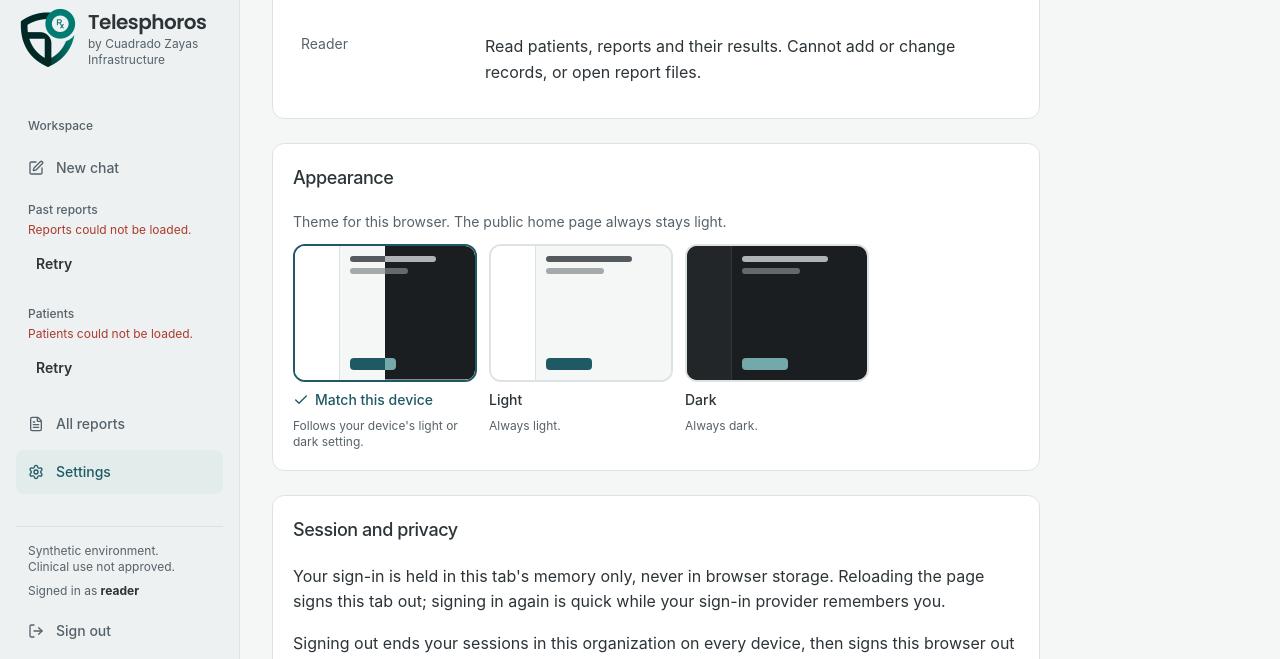
Scenario: Appearance › the picture cards are still radios: arrow keys move the choice, and only the chosen card is marked
The image size is (1280, 659).
(page scrolled)
Click the radio button labelled "Light Always light." at (581, 347), box [489,244,673,450]
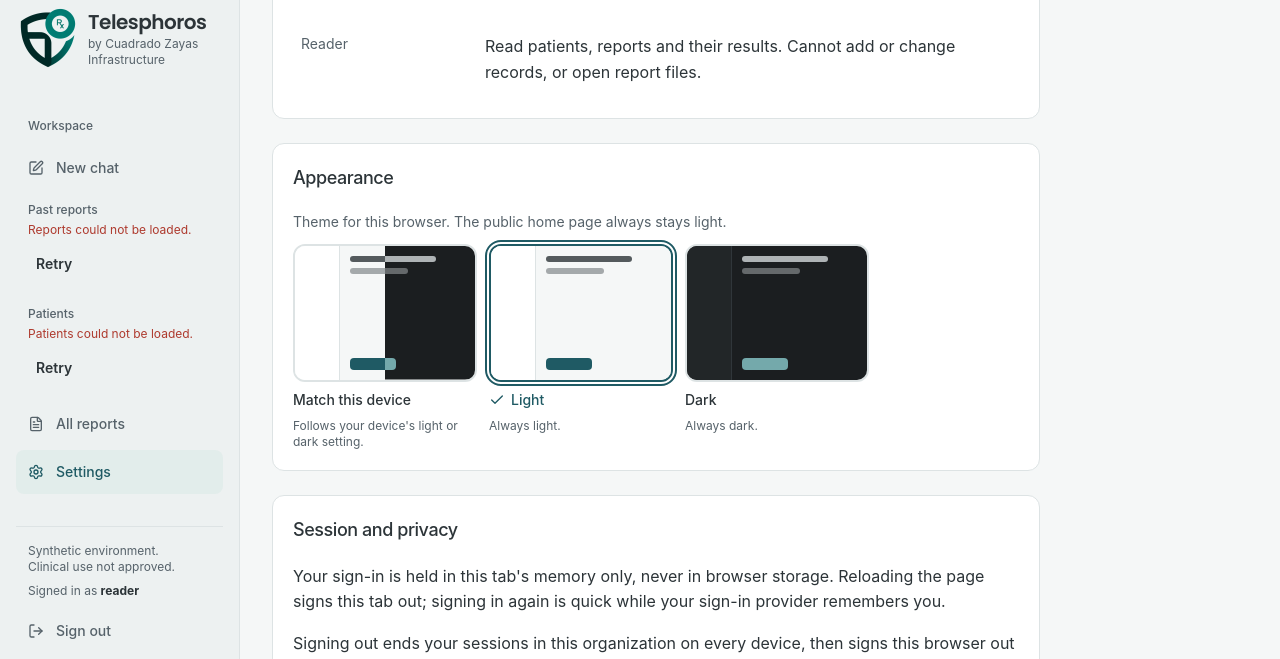
Press Arrowright
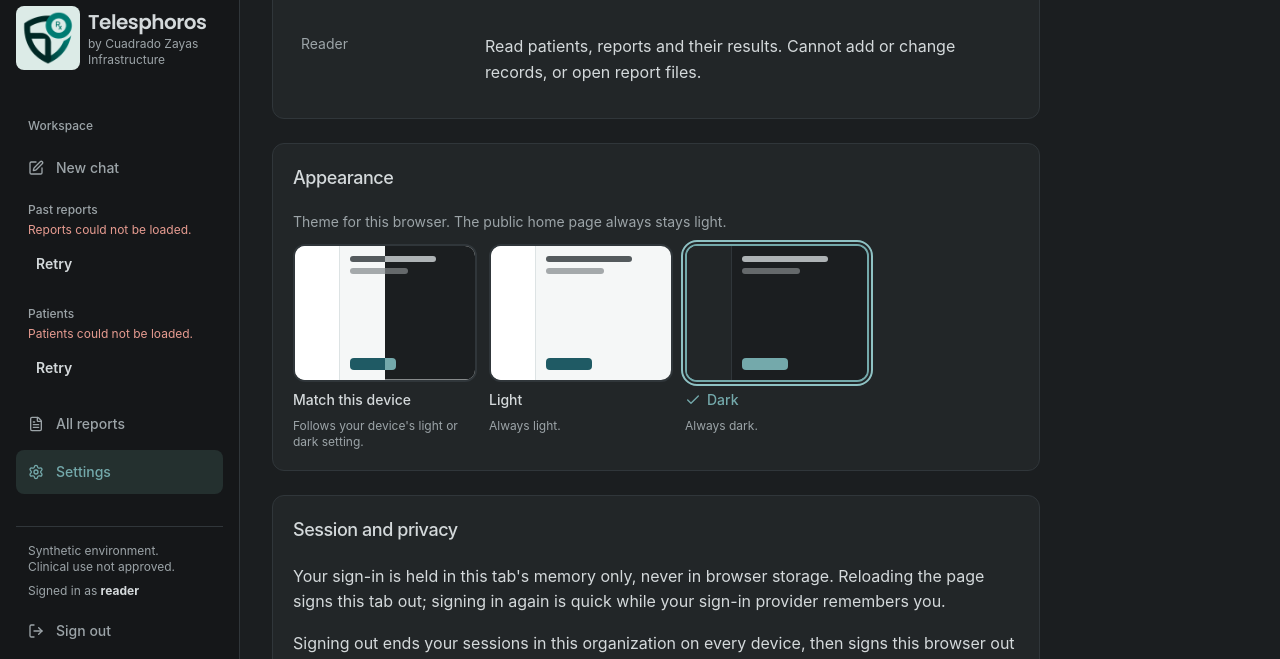
expect the number of icons with class "lucide-check" is 1: met, box [685,392,701,408]
expect the radio button labelled "Dark Always dark." is checked: met, box [685,244,869,450]
